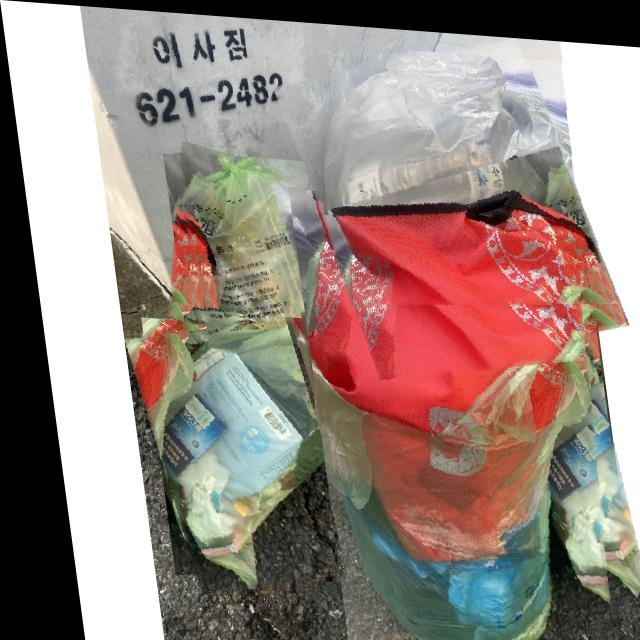general_trashbag: (299, 189, 581, 640), (320, 45, 614, 300), (151, 315, 361, 585), (176, 153, 319, 336)
